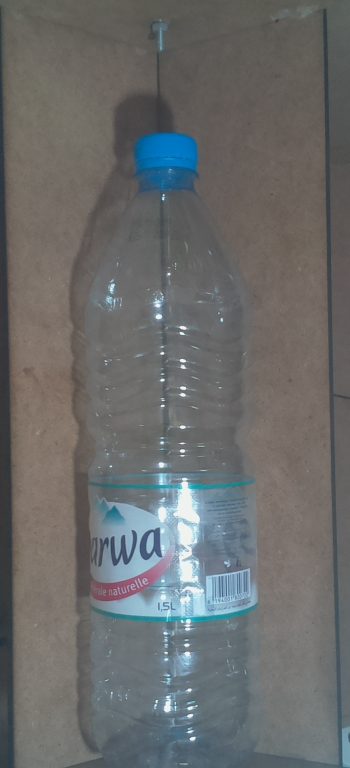Bouteille_1.5L: (71, 128, 271, 768)
